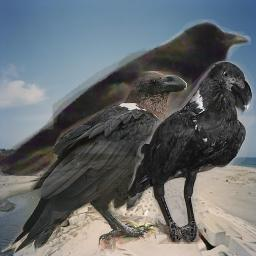Crow: (0, 19, 251, 176), (8, 71, 187, 254), (128, 61, 254, 244)
